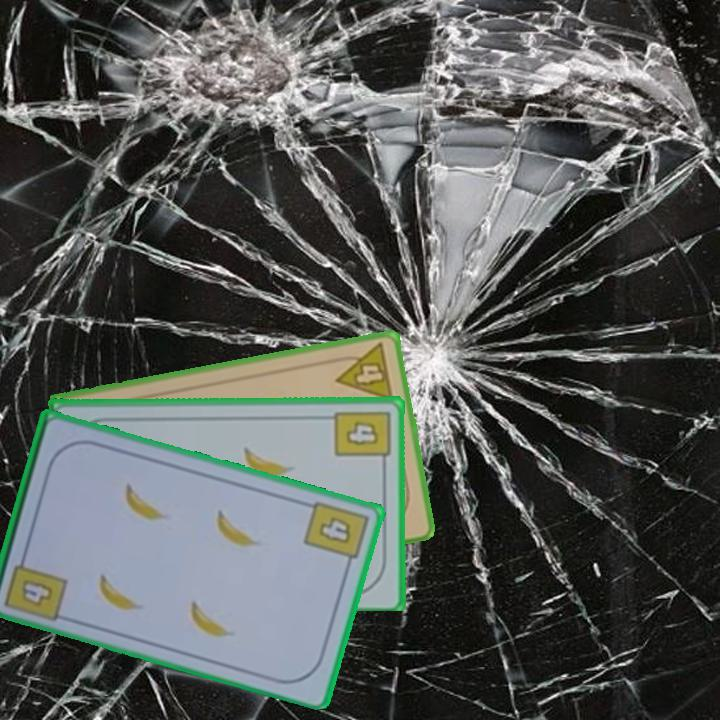4b: (300, 497, 371, 572), (1, 548, 70, 624), (331, 407, 392, 469)
4p: (329, 340, 396, 404)
